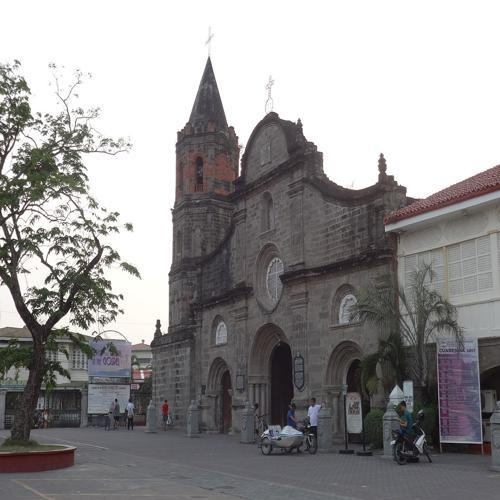Barasoain Church: (135, 40, 424, 461)
